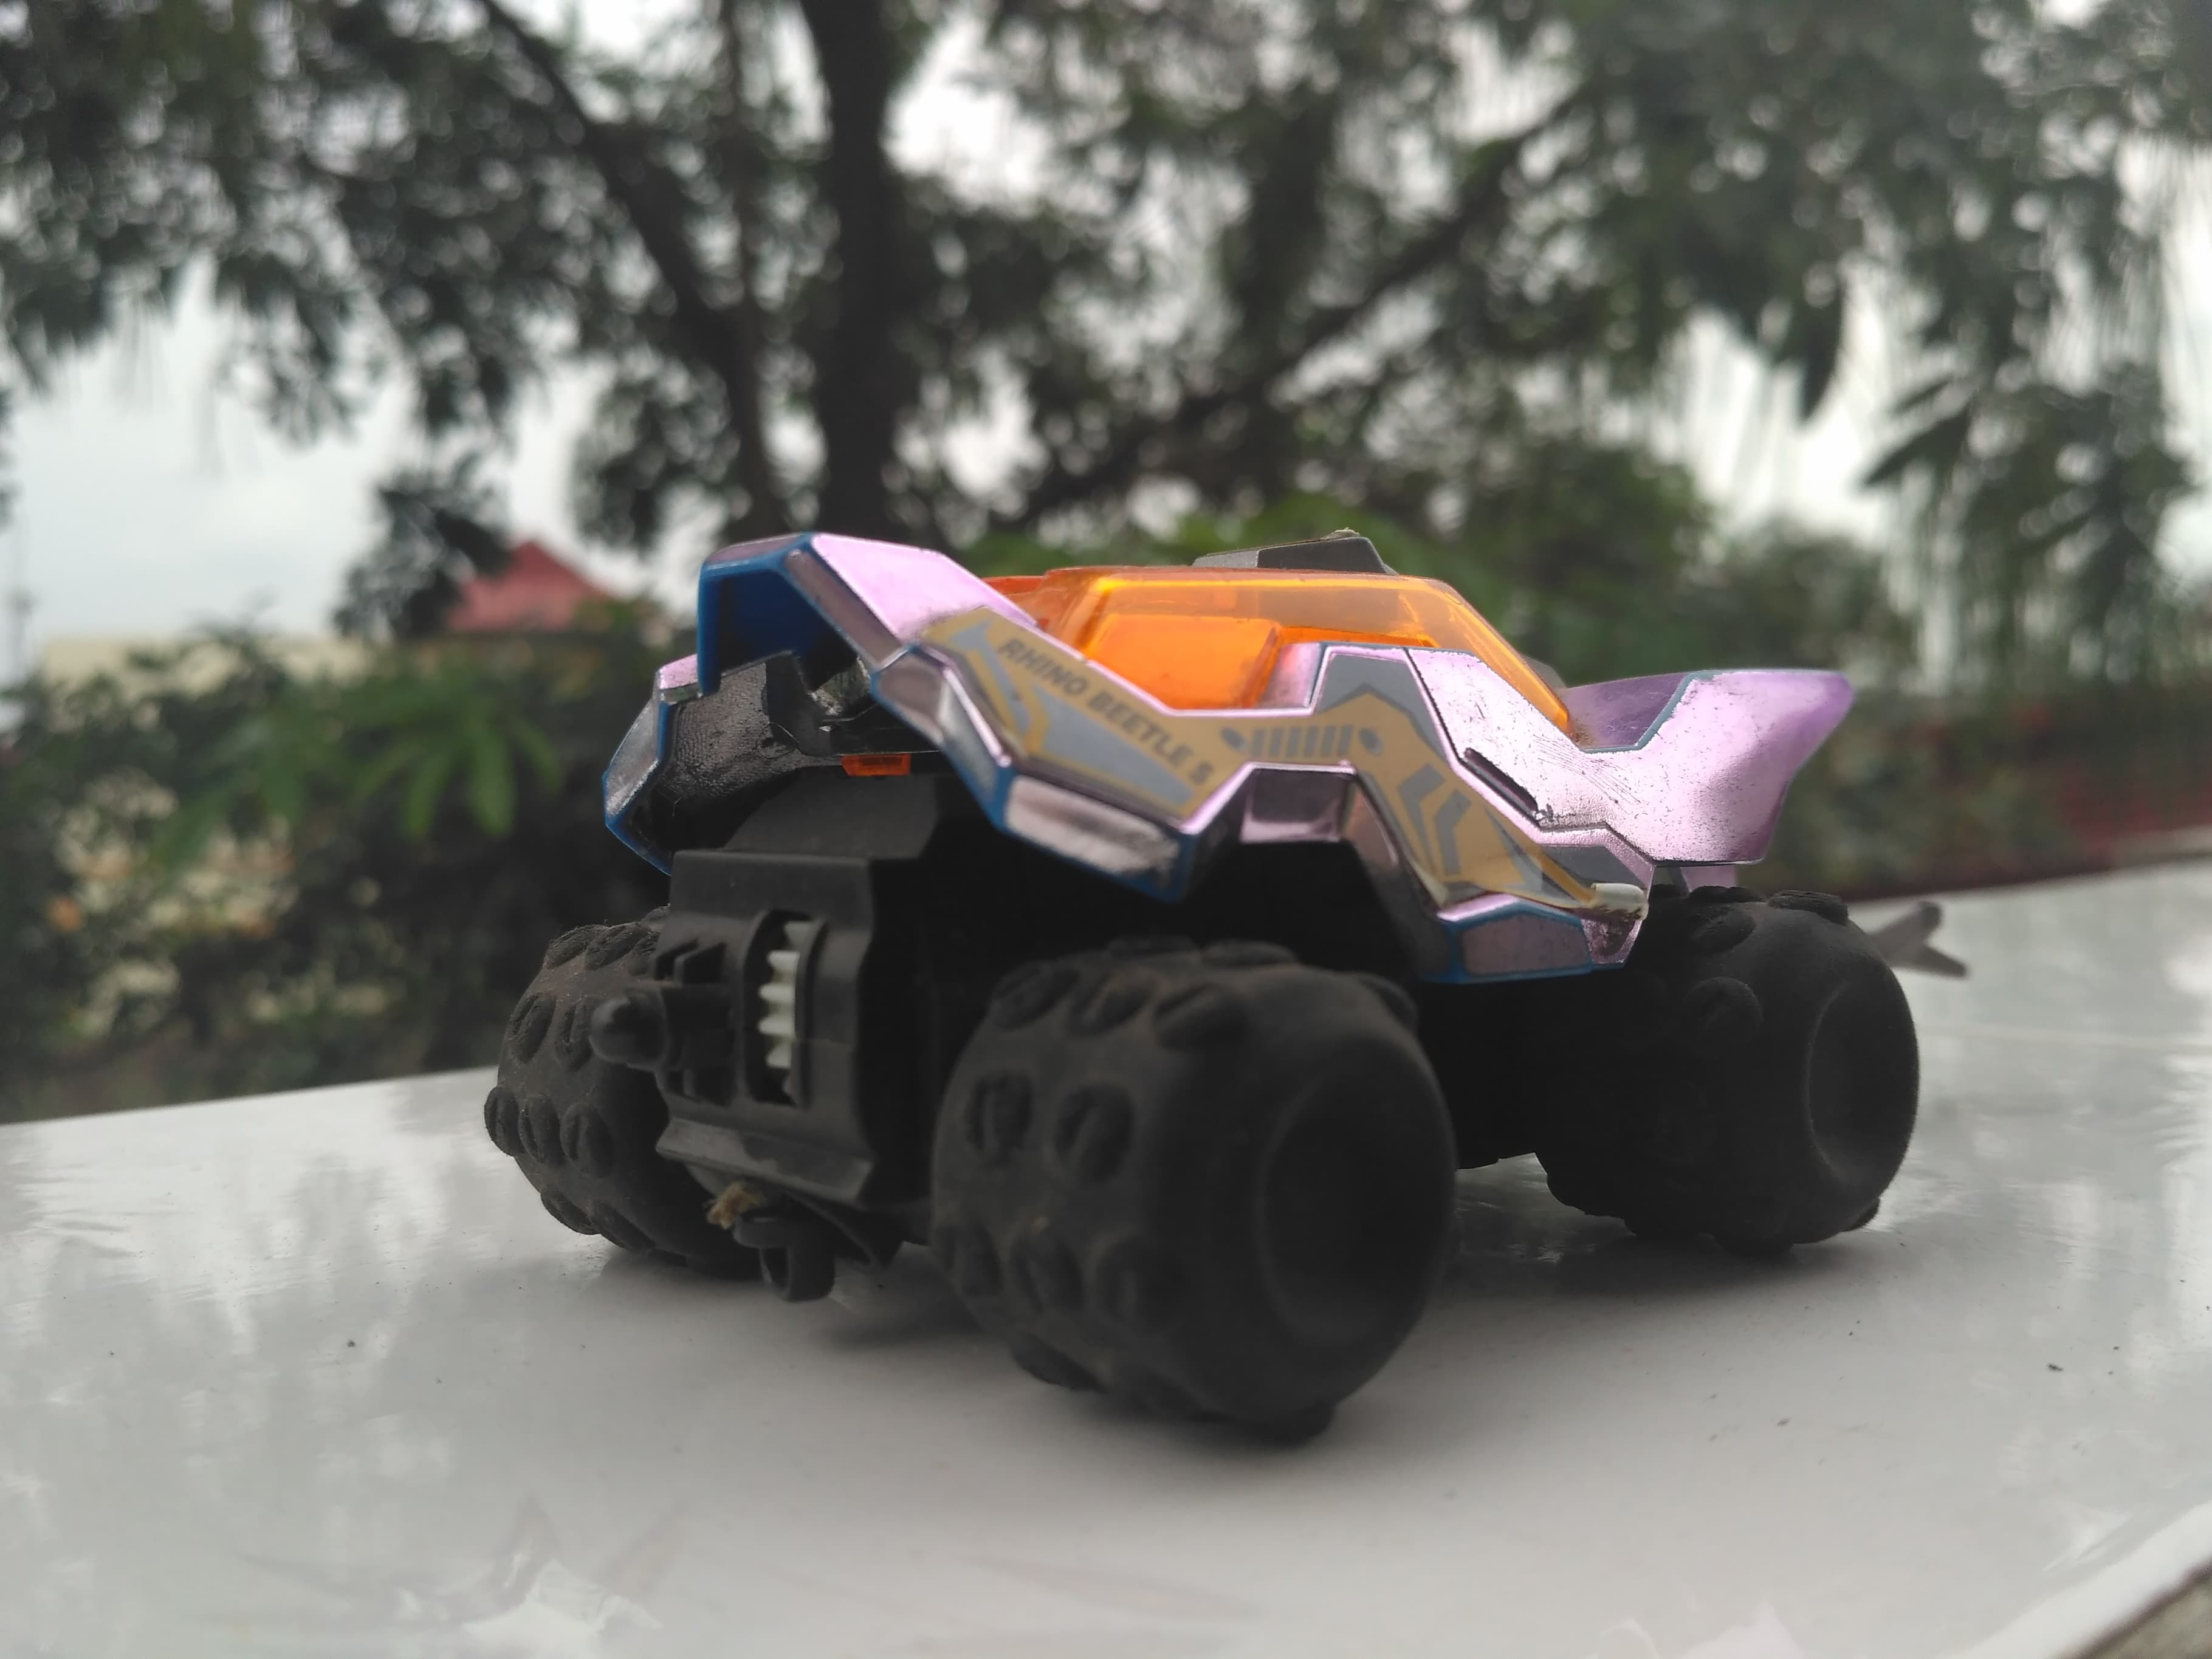rhino: (462, 500, 1996, 1462)
